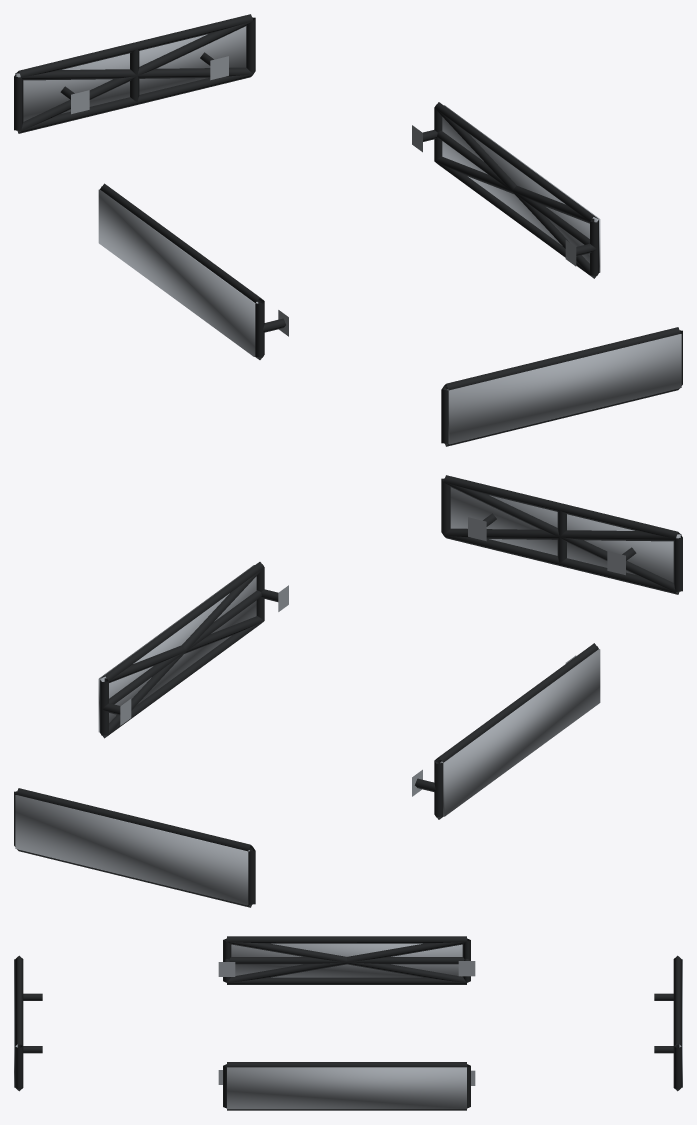
File: ottavo_bruma_protecao.glb
The picture shows the model from 3 angles, top to bottom: view 1: azimuth 30°, elevation 25°; view 2: azimuth 150°, elevation 25°; view 3: azimuth 270°, elevation 25°; orthographic projection. The views are drawn at different scales.
Parts seen in each view (by area): view 1: Protection_front_Level3_Details, Protection_left_Level3_Details, Protection_rear_Level1_Details, Protection_rear_Level3_Details, Protection_right_Level1_Details, Protection_rear_Level2_Details, Protection_right_Level2_Details, Protection_right_Level3_Details, Protection_front_Level1_Details, Protection_left_Level1_Details; view 2: Protection_rear_Level3_Details, Protection_left_Level3_Details, Protection_front_Level1_Details, Protection_front_Level3_Details, Protection_right_Level1_Details, Protection_front_Level2_Details, Protection_right_Level2_Details, Protection_right_Level3_Details, Protection_rear_Level1_Details, Protection_left_Level1_Details; view 3: Protection_right_Level3_Details, Protection_left_Level2_Details, Protection_left_Level1_Details, Protection_left_Level3_Details, Protection_right_Level1_Details, Protection_rear_Level1_Details, Protection_front_Level1_Details.
Boxes of the visible parts, x1,y1,x2,y2 form: Protection_front_Level3_Details: (447,334,681,444); Protection_left_Level3_Details: (98,189,258,356); Protection_rear_Level1_Details: (14,14,255,133); Protection_rear_Level3_Details: (15,26,246,121); Protection_right_Level1_Details: (412,102,598,278); Protection_rear_Level2_Details: (16,21,252,132); Protection_right_Level2_Details: (434,108,598,277); Protection_right_Level3_Details: (442,105,600,272); Protection_front_Level1_Details: (441,327,682,446); Protection_left_Level1_Details: (100,183,288,359); Protection_rear_Level3_Details: (15,795,249,905); Protection_left_Level3_Details: (440,649,600,816); Protection_front_Level1_Details: (441,475,682,594); Protection_front_Level3_Details: (450,487,681,582); Protection_right_Level1_Details: (100,562,288,738); Protection_front_Level2_Details: (444,482,680,593); Protection_right_Level2_Details: (100,568,264,737); Protection_right_Level3_Details: (98,565,256,732); Protection_rear_Level1_Details: (14,788,255,907); Protection_left_Level1_Details: (412,643,598,819); Protection_right_Level3_Details: (227,1067,466,1109); Protection_left_Level2_Details: (226,940,467,982); Protection_left_Level1_Details: (218,936,475,984); Protection_left_Level3_Details: (231,943,462,977); Protection_right_Level1_Details: (218,1062,475,1110); Protection_rear_Level1_Details: (654,955,681,1091); Protection_front_Level1_Details: (15,955,42,1091).
Size of the model in its own units: 2.03 by 0.354 by 4.41.
Materials: 1 (1 with a texture image).
